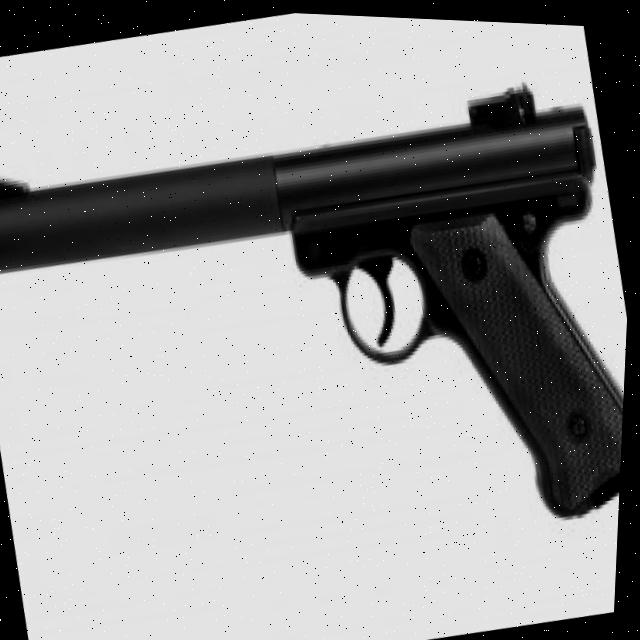pistol: (0, 45, 638, 616)
